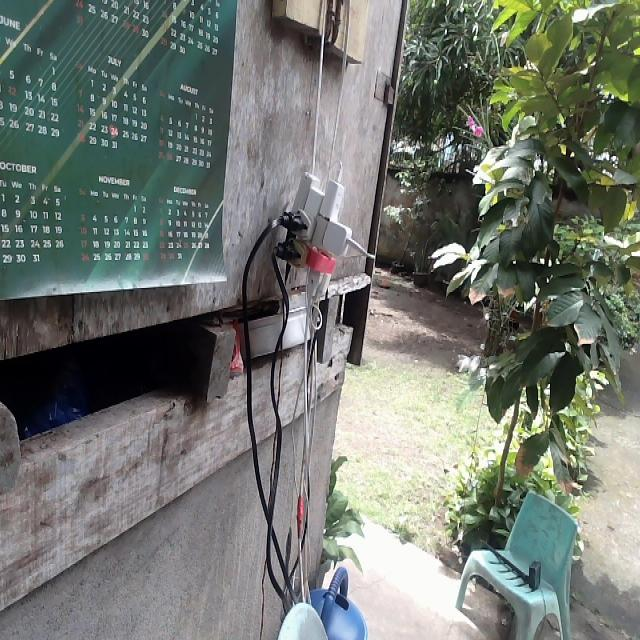-: (268, 165, 363, 304)
